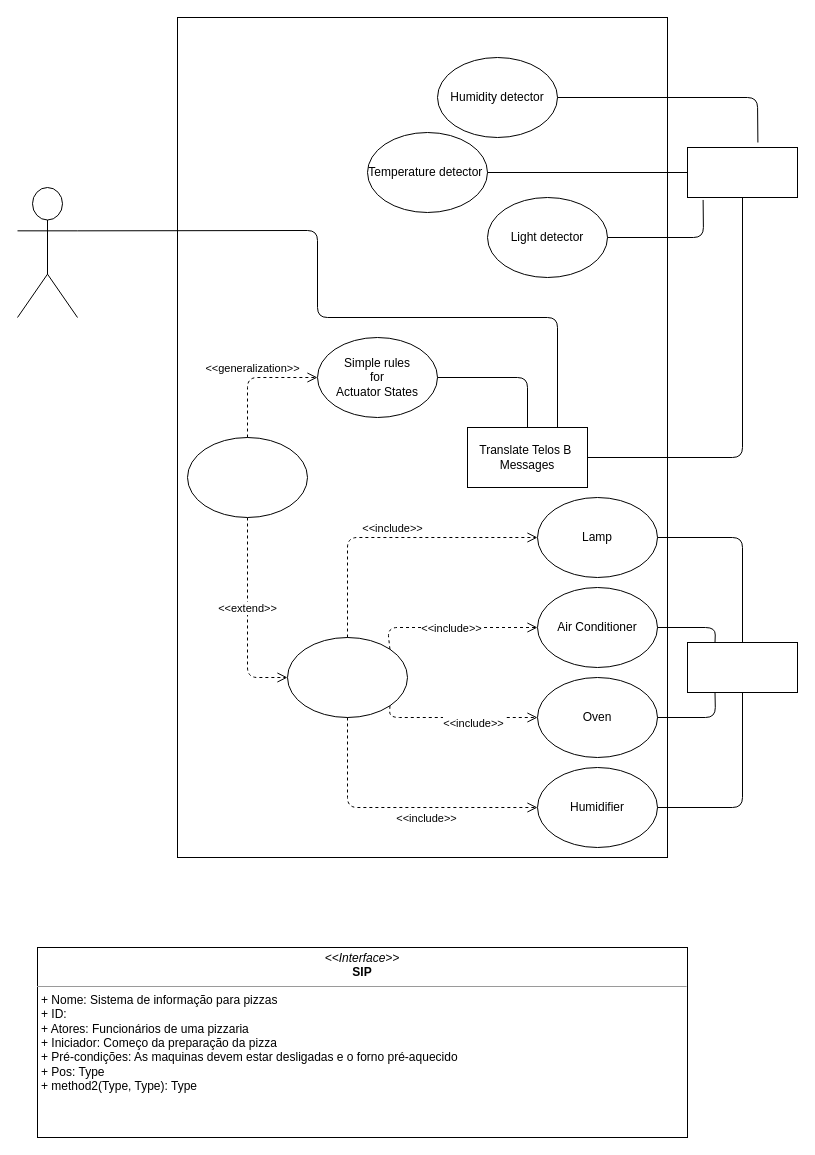
Image size: 815x1155. Some labels were removed from this diagram. The centre of each missing label's shape, as x and y in pixels:
"Actuator State" belongs at point 347,677.
"Actuators" belongs at point 742,667.
"Employee" belongs at point 47,252.
"Gman Controller" belongs at point 247,477.
"Sensors (Telos B)" belongs at point 742,172.
